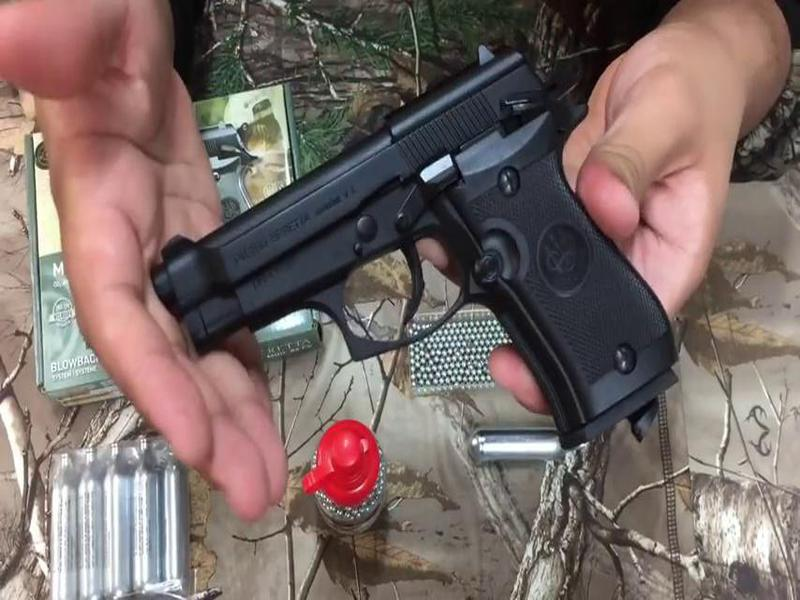Pistola: (134, 41, 687, 469)
